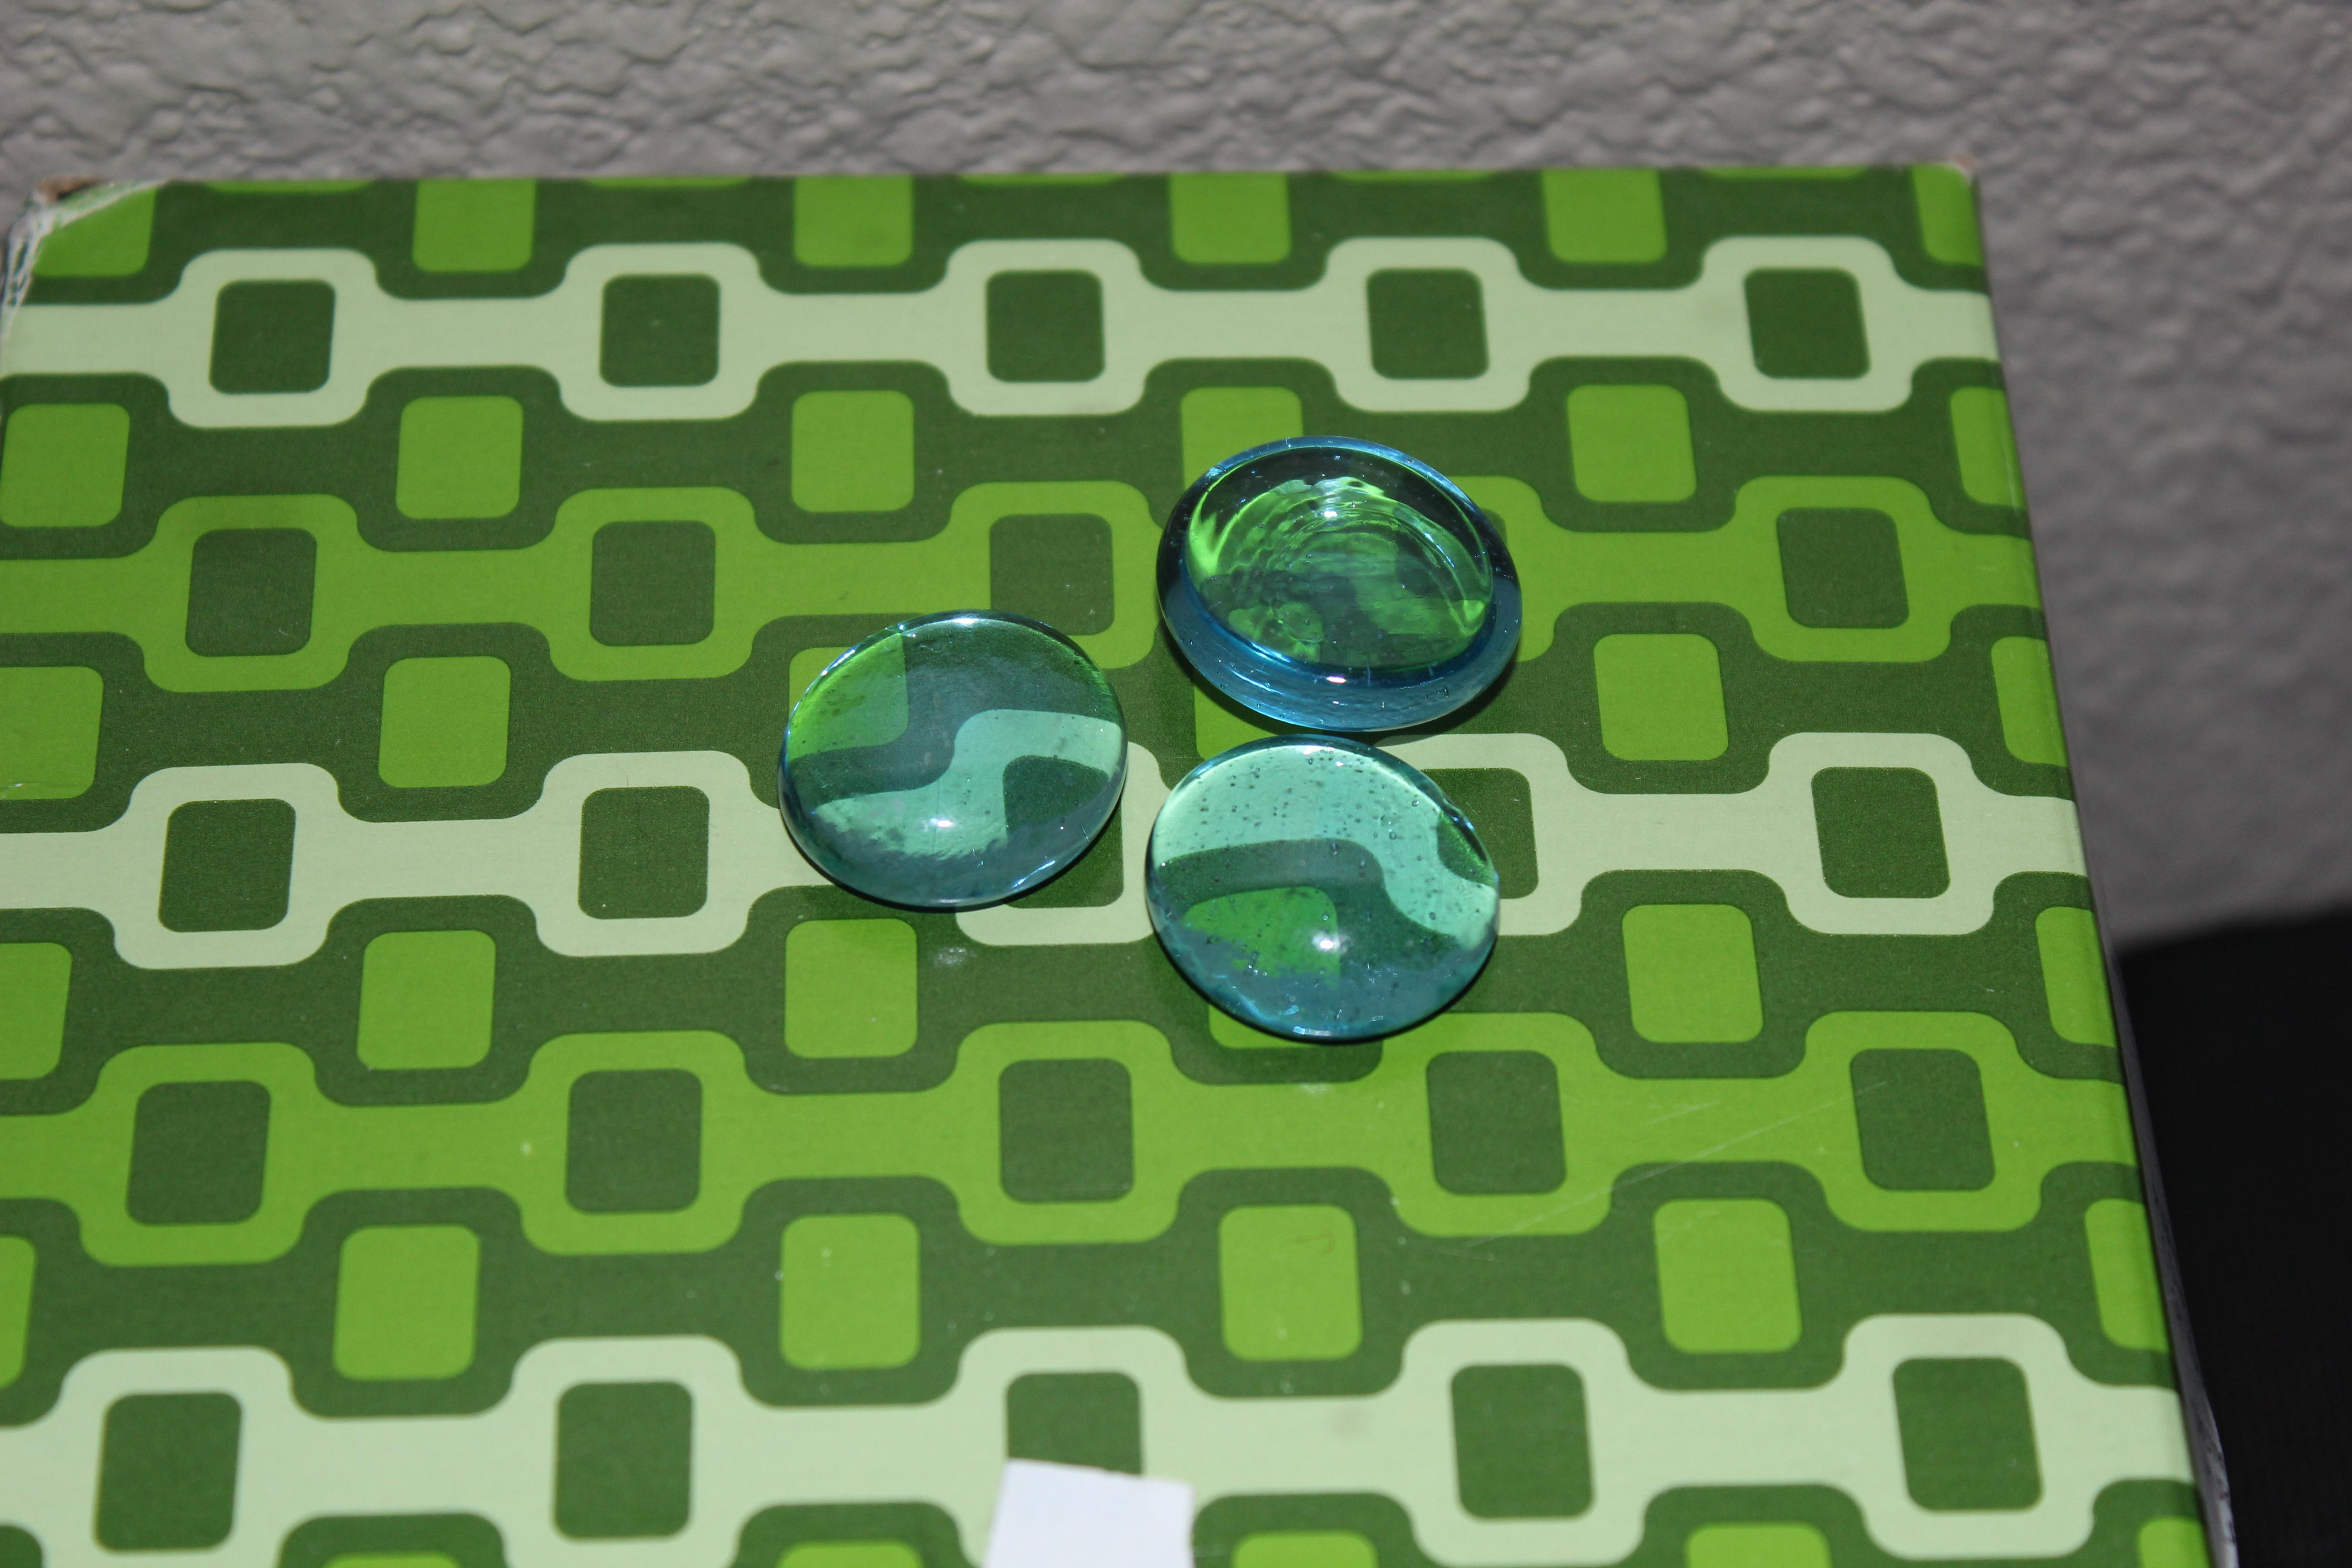glassBead: (754, 590, 1144, 920), (1132, 724, 1521, 1055), (1144, 422, 1533, 753)
